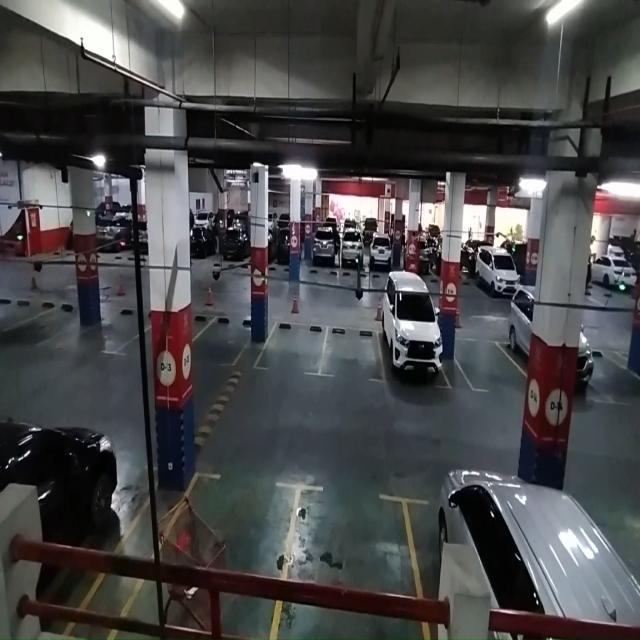empty: (292, 464, 418, 638), (457, 329, 525, 391), (322, 320, 382, 381), (258, 321, 323, 377), (192, 315, 244, 370)
occupied: (414, 452, 583, 634), (380, 284, 449, 388)
